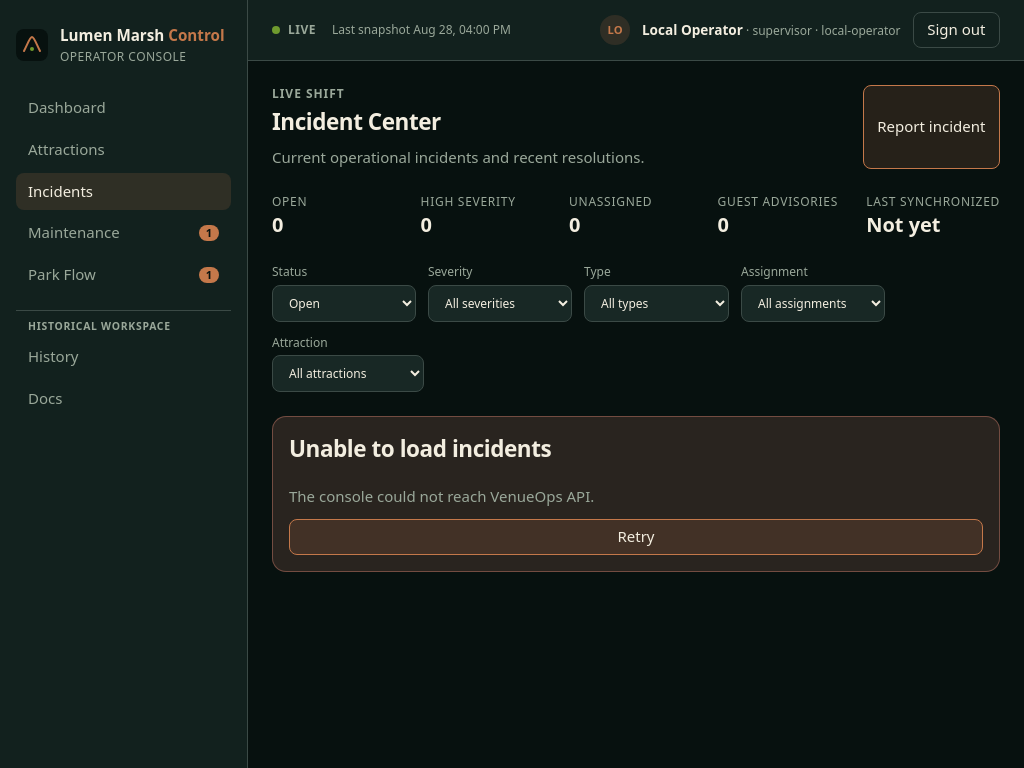
Test: IncidentsPage › displays API error and retry
expect the heading "Unable to load incidents" is shown: met, box [289,433,551,464]
Click the button "Retry". click: (636, 537)
box: [289,519,983,555]
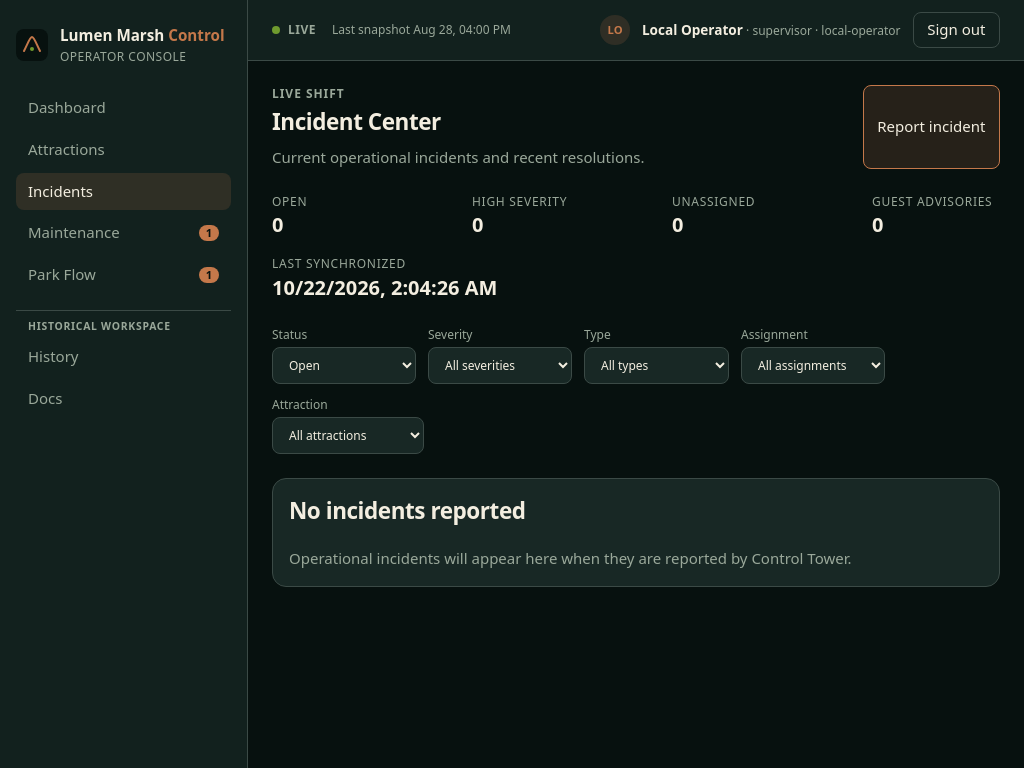
expect the heading "No incidents reported" is shown: met, box [289,495,526,526]
